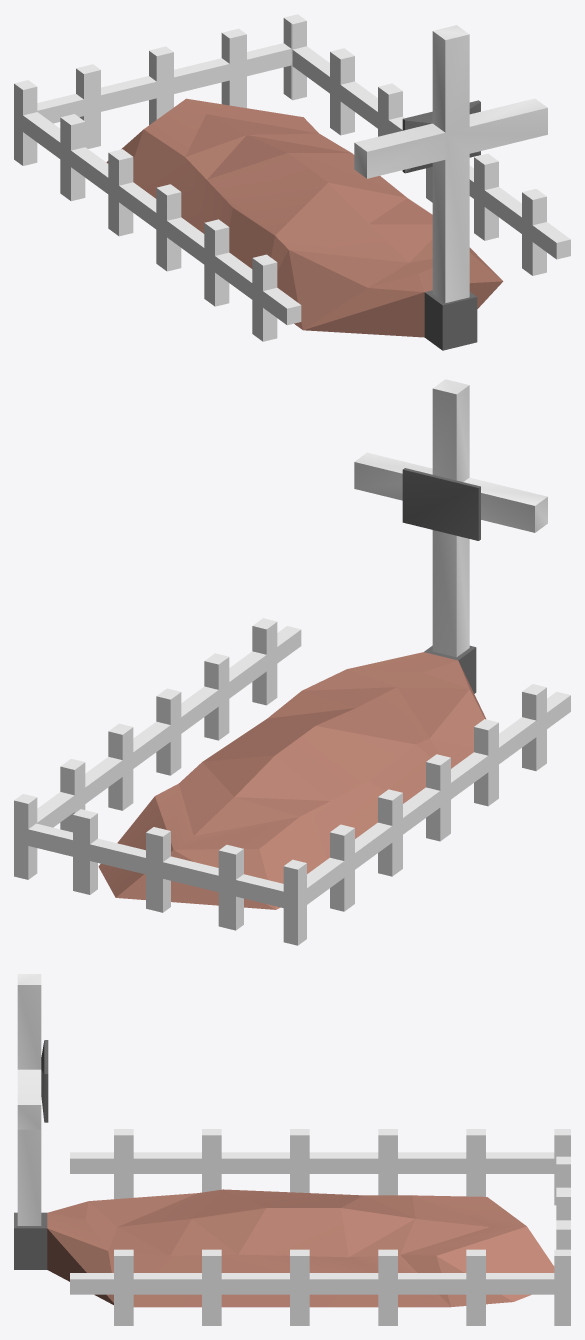
Rendered from Grave3.fbx.
3 renders of one model, top to bottom at view 1: azimuth 30°, elevation 25°; view 2: azimuth 150°, elevation 25°; view 3: azimuth 270°, elevation 25°, orthographic. The views are drawn at different scales.
Visible parts, largest first — view 1: Grave3; view 2: Grave3; view 3: Grave3.
Part boxes in pixels (x1,y1,x2,y2): Grave3: [14, 14, 570, 350]; Grave3: [14, 379, 570, 945]; Grave3: [14, 974, 570, 1325].
Size of the model in its own units: 0.9551 by 1.77 by 0.9911.
